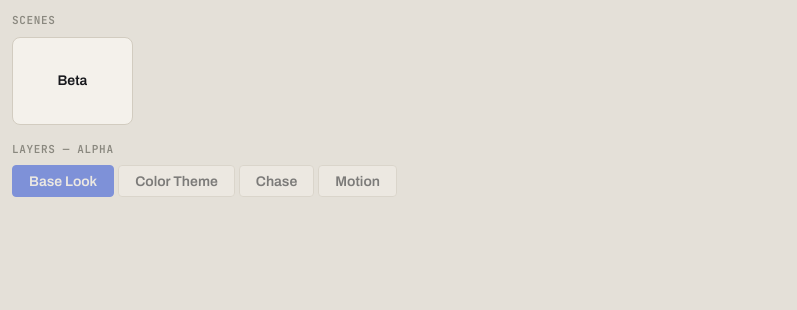
Scenario: Launcher › surfaces a rejected scene launch instead of looking like nothing happened
Expected: the text "Layers — Alpha" is shown, x1=12 y1=142 x2=114 y2=156
What coordinates should you click on to do the following:
click the button "Beta"
I would click on:
 (72, 80)
Its box is x1=12 y1=36 x2=133 y2=124.
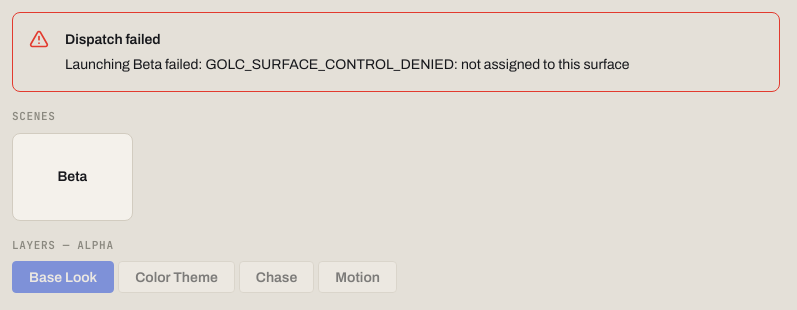
Expected: the text "GOLC_SURFACE_CONTROL_DENIED" is shown, x1=65 y1=57 x2=630 y2=72
